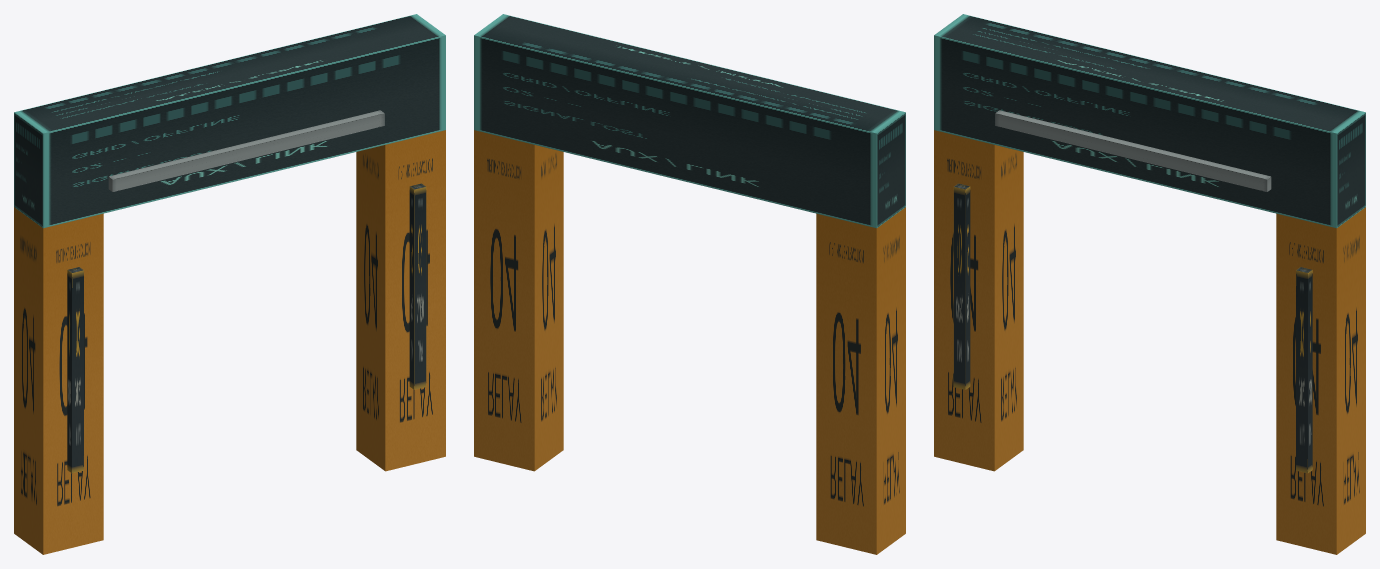
File: doorframe_4m_LOD2.obj
The picture shows the model from 3 angles, left to right: view 1: azimuth 30°, elevation 25°; view 2: azimuth 150°, elevation 25°; view 3: azimuth 330°, elevation 25°; orthographic projection.
Parts seen in each view (by area): view 1: L02_doorframe_4m_LOD2; view 2: L02_doorframe_4m_LOD2; view 3: L02_doorframe_4m_LOD2.
Boxes of the visible parts, bbox=[...] form: L02_doorframe_4m_LOD2: bbox=[14, 14, 445, 554]; L02_doorframe_4m_LOD2: bbox=[474, 14, 905, 554]; L02_doorframe_4m_LOD2: bbox=[934, 14, 1365, 554].
Size of the model in its own units: 4 by 4 by 0.58.
Materials: 1 (1 with a texture image).
